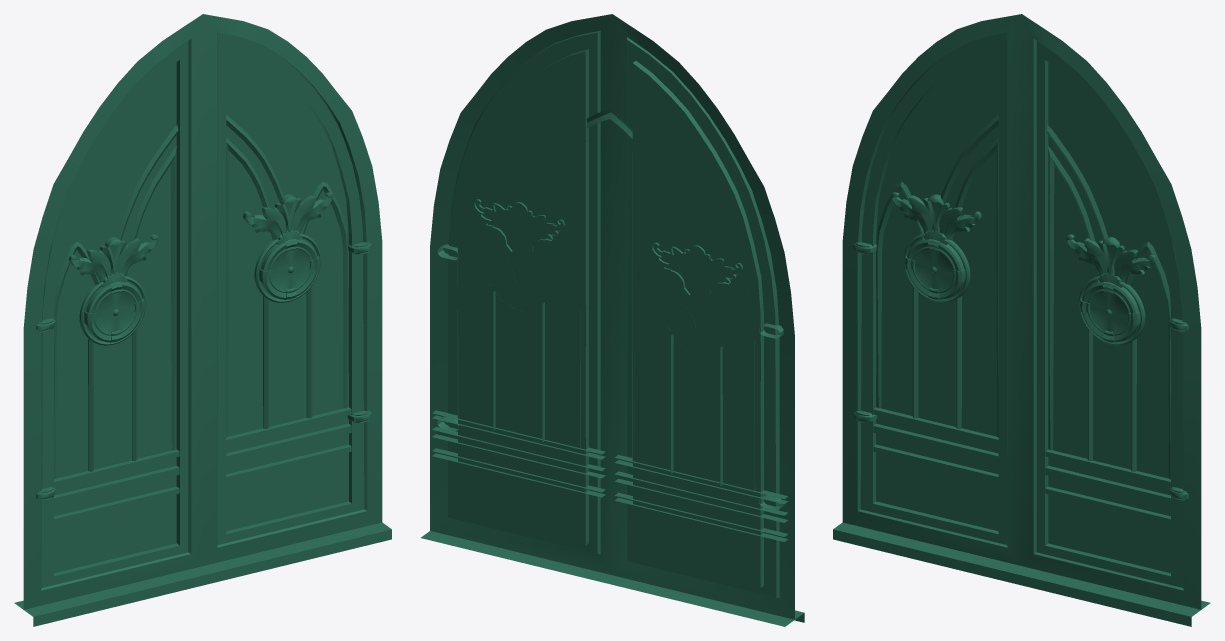
The model's file is SM_bossdoor.fbx.
3 views of the same model, side by side, from view 1: azimuth 30°, elevation 25°; view 2: azimuth 150°, elevation 25°; view 3: azimuth 330°, elevation 25° (orthographic).
Visible parts, largest first — view 1: SM_bossdoor; view 2: SM_bossdoor; view 3: SM_bossdoor.
Part boxes in pixels (x1,y1,x2,y2): SM_bossdoor: (14, 14, 391, 626); SM_bossdoor: (421, 14, 804, 626); SM_bossdoor: (833, 14, 1210, 626).
Bounding box in the file's own units: 483 × 723 × 44.73.
